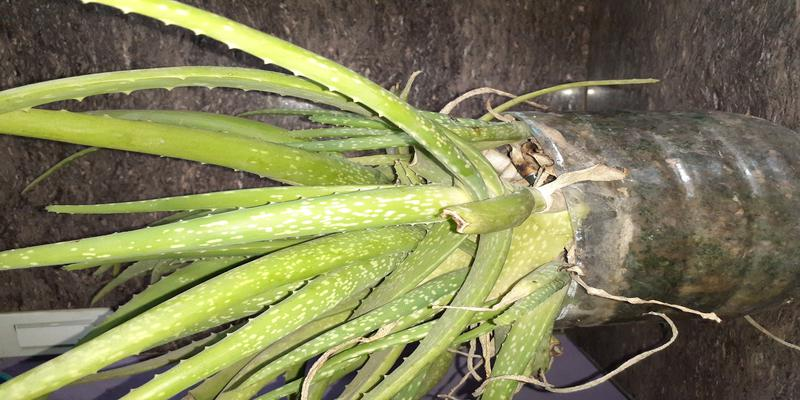Aloevera: (23, 73, 567, 388)
